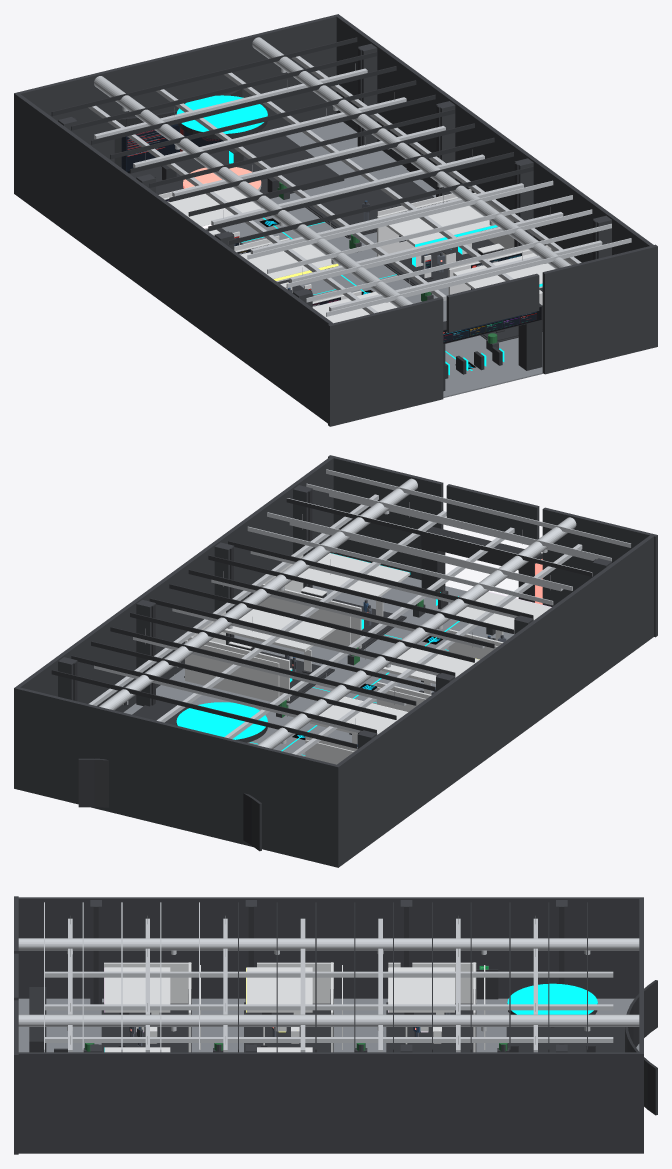
The model's file is generate_expo_environment_runtime.glb.
3 views of the same model, one above another, from view 1: azimuth 30°, elevation 25°; view 2: azimuth 150°, elevation 25°; view 3: azimuth 270°, elevation 25° (orthographic).
Parts seen in each view (by area): view 1: Hall_Architecture, Ceiling_Truss_System, Expo_Flooring, Future_Lab_Pavilion, Booth_Personal_AI, Entrance_Archway, Booth_Adaptive_Computing, Booth_Lenovo_AI_PC, Booth_Lenovo_XR, Booth_Legion_Gaming; view 2: Hall_Architecture, Ceiling_Truss_System, Expo_Flooring, Booth_Personal_AI, Future_Lab_Pavilion, Booth_Lenovo_AI_PC, Entrance_Archway, Booth_Lenovo_XR, Booth_Legion_Gaming, Booth_Adaptive_Computing; view 3: Hall_Architecture, Ceiling_Truss_System, Expo_Flooring, Future_Lab_Pavilion, Booth_Lenovo_XR, Booth_Legion_Gaming, Booth_Adaptive_Computing, Entrance_Archway, Expo_Signage_Decor.
Part boxes in pixels (x1=…): Hall_Architecture: x1=14, y1=14, x2=657, y2=426; Ceiling_Truss_System: x1=51, y1=37, x2=631, y2=316; Expo_Flooring: x1=129, y1=122, x2=543, y2=397; Future_Lab_Pavilion: x1=114, y1=89, x2=279, y2=192; Booth_Personal_AI: x1=377, y1=189, x2=514, y2=280; Entrance_Archway: x1=443, y1=303, x2=542, y2=391; Booth_Adaptive_Computing: x1=234, y1=235, x2=338, y2=292; Booth_Lenovo_AI_PC: x1=448, y1=245, x2=572, y2=332; Booth_Lenovo_XR: x1=158, y1=183, x2=261, y2=246; Booth_Legion_Gaming: x1=312, y1=290, x2=396, y2=323; Hall_Architecture: x1=14, y1=455, x2=657, y2=867; Ceiling_Truss_System: x1=51, y1=469, x2=631, y2=755; Expo_Flooring: x1=123, y1=577, x2=514, y2=756; Booth_Personal_AI: x1=185, y1=609, x2=335, y2=701; Future_Lab_Pavilion: x1=78, y1=702, x2=267, y2=851; Booth_Lenovo_AI_PC: x1=258, y1=553, x2=410, y2=648; Entrance_Archway: x1=421, y1=526, x2=542, y2=609; Booth_Lenovo_XR: x1=305, y1=696, x2=407, y2=764; Booth_Legion_Gaming: x1=448, y1=591, x2=551, y2=659; Booth_Adaptive_Computing: x1=377, y1=647, x2=479, y2=711; Hall_Architecture: x1=14, y1=896, x2=643, y2=1154; Ceiling_Truss_System: x1=18, y1=902, x2=639, y2=1052; Expo_Flooring: x1=18, y1=998, x2=639, y2=1052; Future_Lab_Pavilion: x1=507, y1=980, x2=657, y2=1115; Booth_Lenovo_XR: x1=388, y1=962, x2=485, y2=1052; Booth_Legion_Gaming: x1=104, y1=962, x2=200, y2=1052; Booth_Adaptive_Computing: x1=246, y1=962, x2=342, y2=1052; Entrance_Archway: x1=29, y1=987, x2=67, y2=1052; Expo_Signage_Decor: x1=83, y1=965, x2=509, y2=1052.
Bounding box in the file's own units: 29 × 8.6 × 49.79.
Materials: 26 (10 with a texture image).
